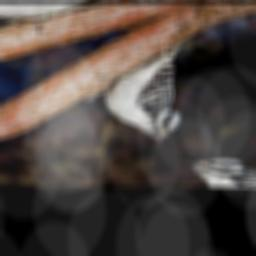Woodpecker: (64, 40, 256, 152)
